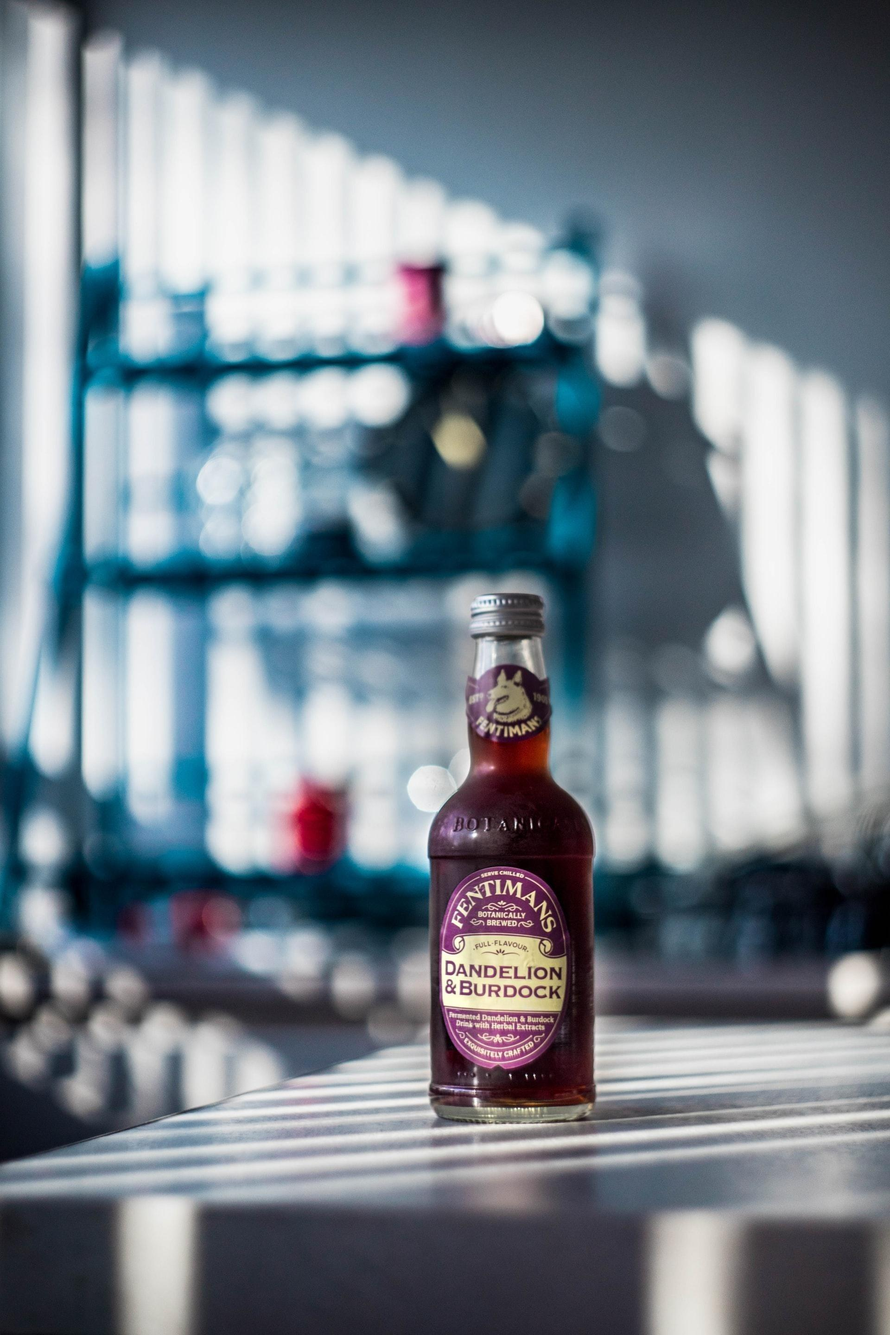bottle-glass: (422, 593, 600, 1135)
